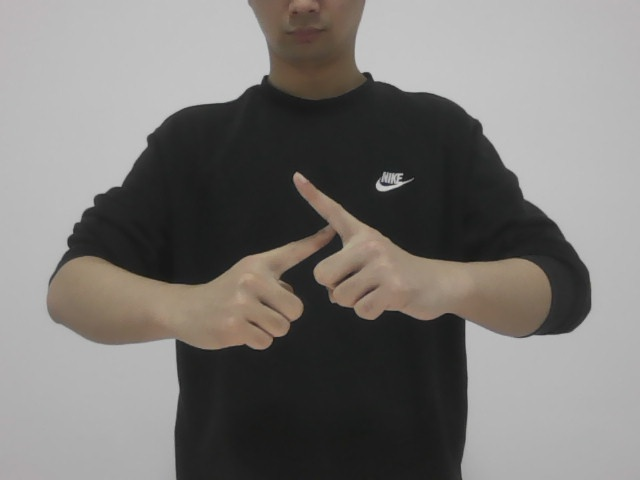peason: (208, 162, 414, 357)
